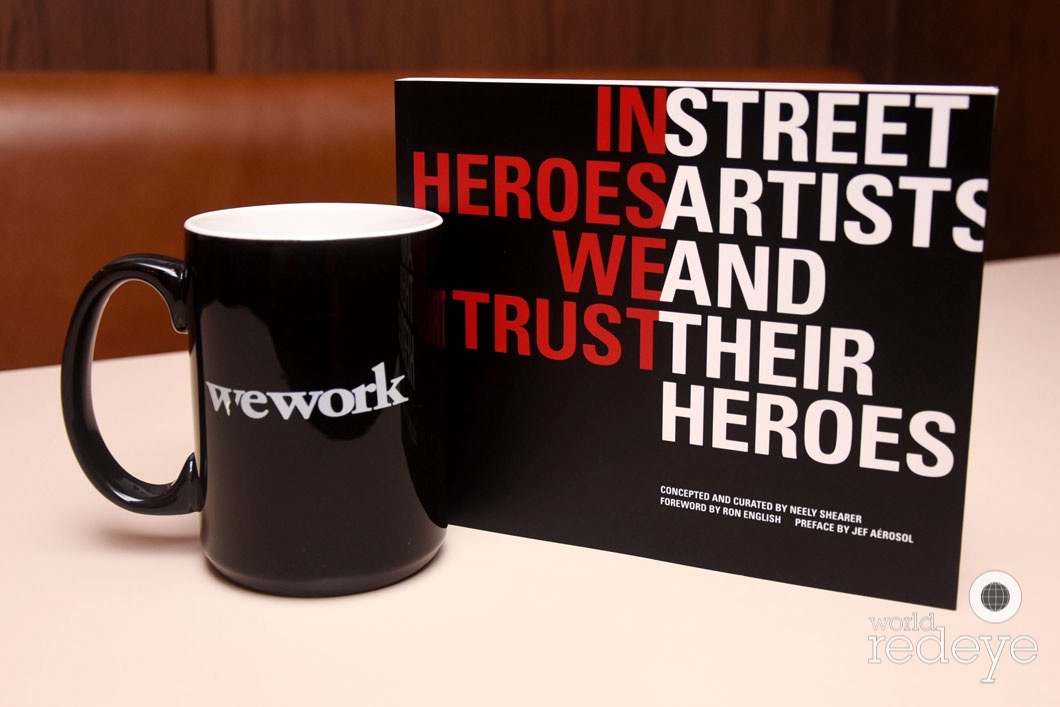wework: (204, 359, 412, 423)
